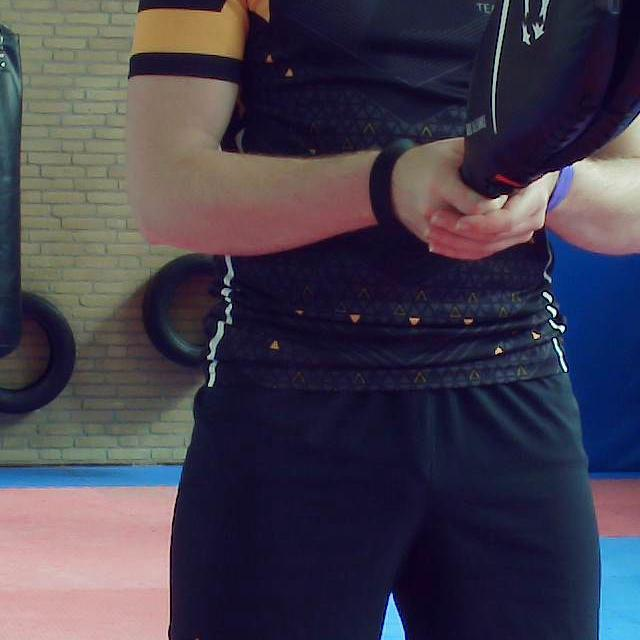paddle: (463, 0, 640, 186)
